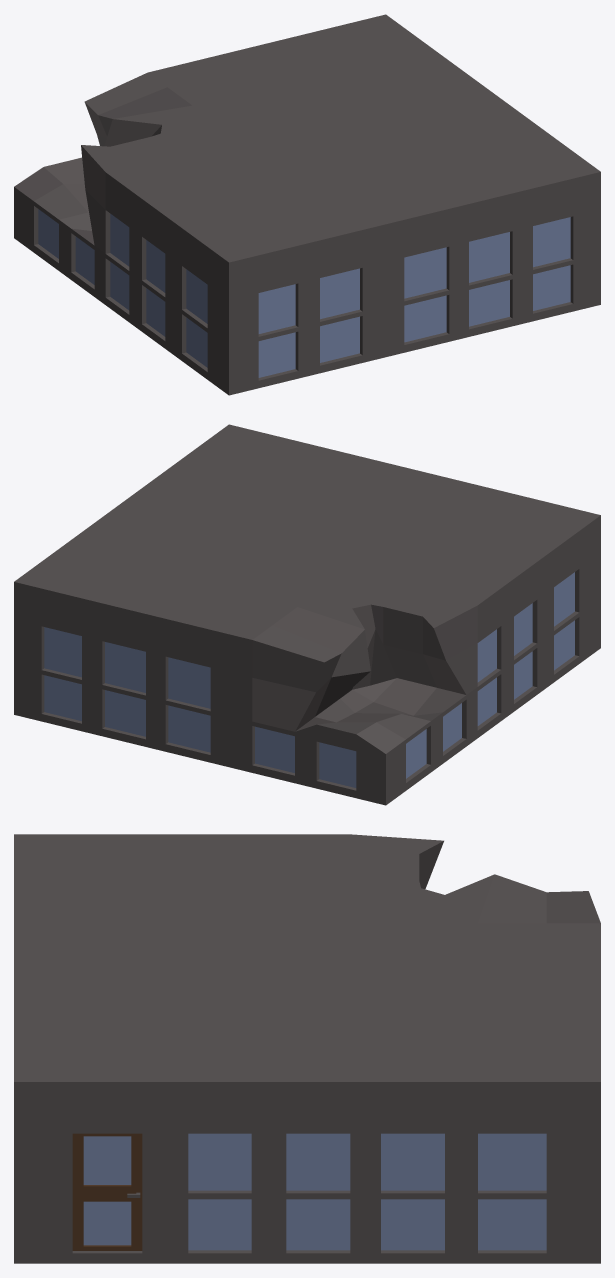
Rendered from Building Damaged 2.fbx.
3 views of the same model, one above another, from view 1: azimuth 30°, elevation 25°; view 2: azimuth 150°, elevation 25°; view 3: azimuth 270°, elevation 25° (orthographic). The views are drawn at different scales.
Parts seen in each view (by area): view 1: pCube3; view 2: pCube3; view 3: pCube3.
Boxes of the visible parts, <box> form: pCube3: <box>14,14,600,395</box>; pCube3: <box>14,424,600,805</box>; pCube3: <box>14,834,600,1263</box>.
Size of the model in its own units: 9.99 by 3.41 by 10.
